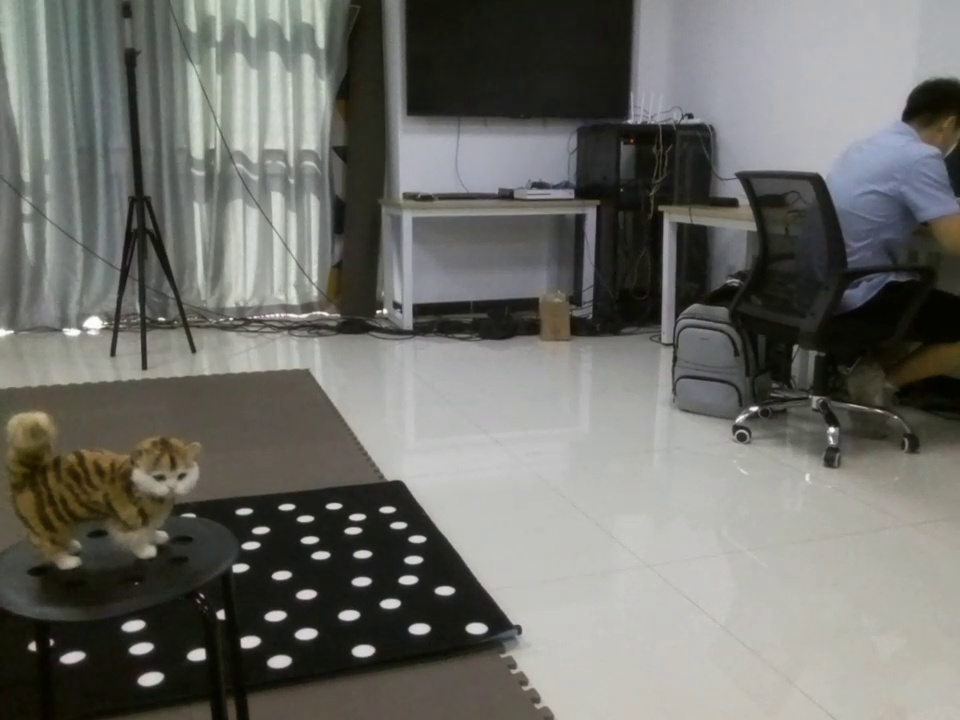cat: (1, 407, 217, 579)
